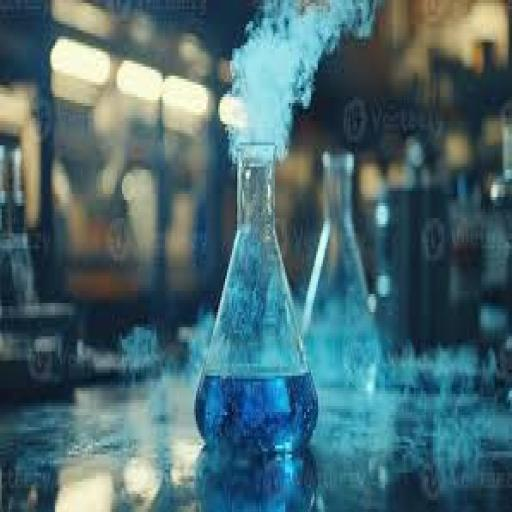blue-bottle: (196, 139, 316, 451), (301, 151, 380, 388)
